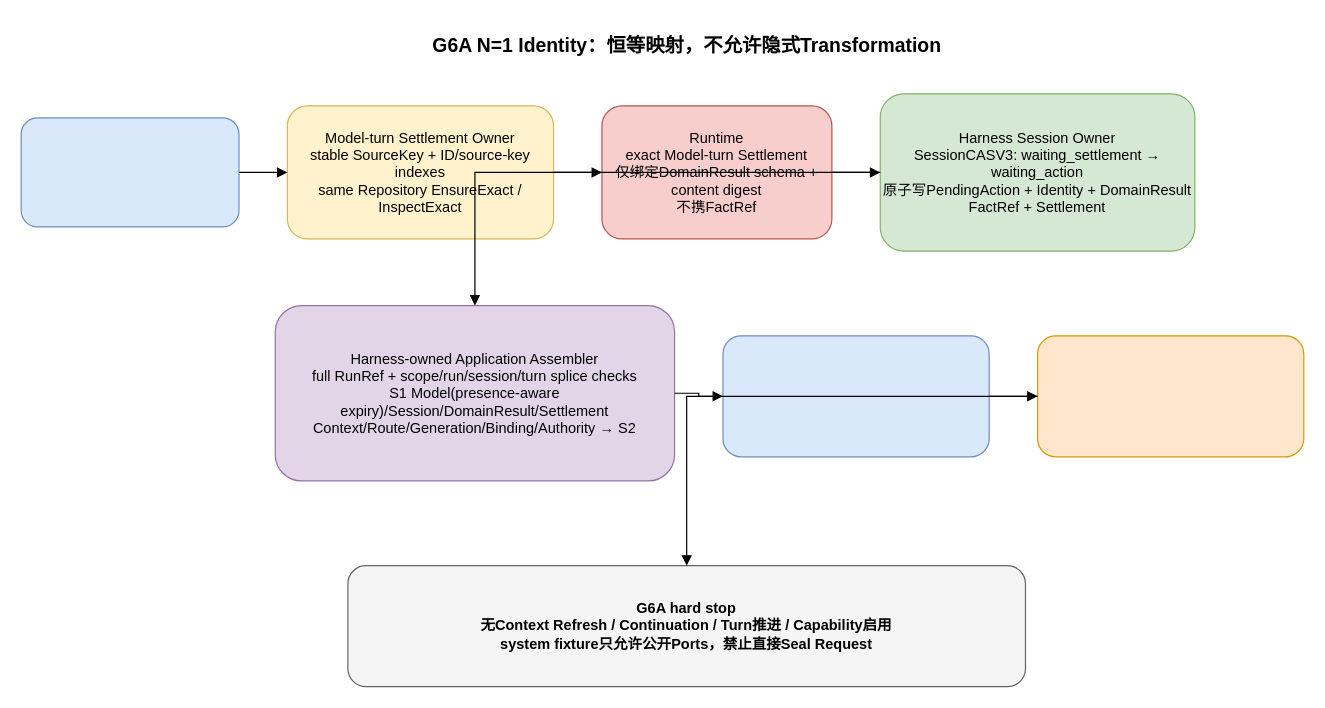
This 1325x708 diagram has some shape labels left out. Here are the shapes that lost their labels. From the top down, the centre of each, then its label:
At pixel 129 172: "Model Owner Projection exact Reader Calls == 1".
At pixel 855 396: "Application Owner Request/InputCurrent V2 write-ahead + start-or-inspect".
At pixel 1170 396: "Tool V2 Consumer Watermark前复读Identity 三份payload digest相等".
